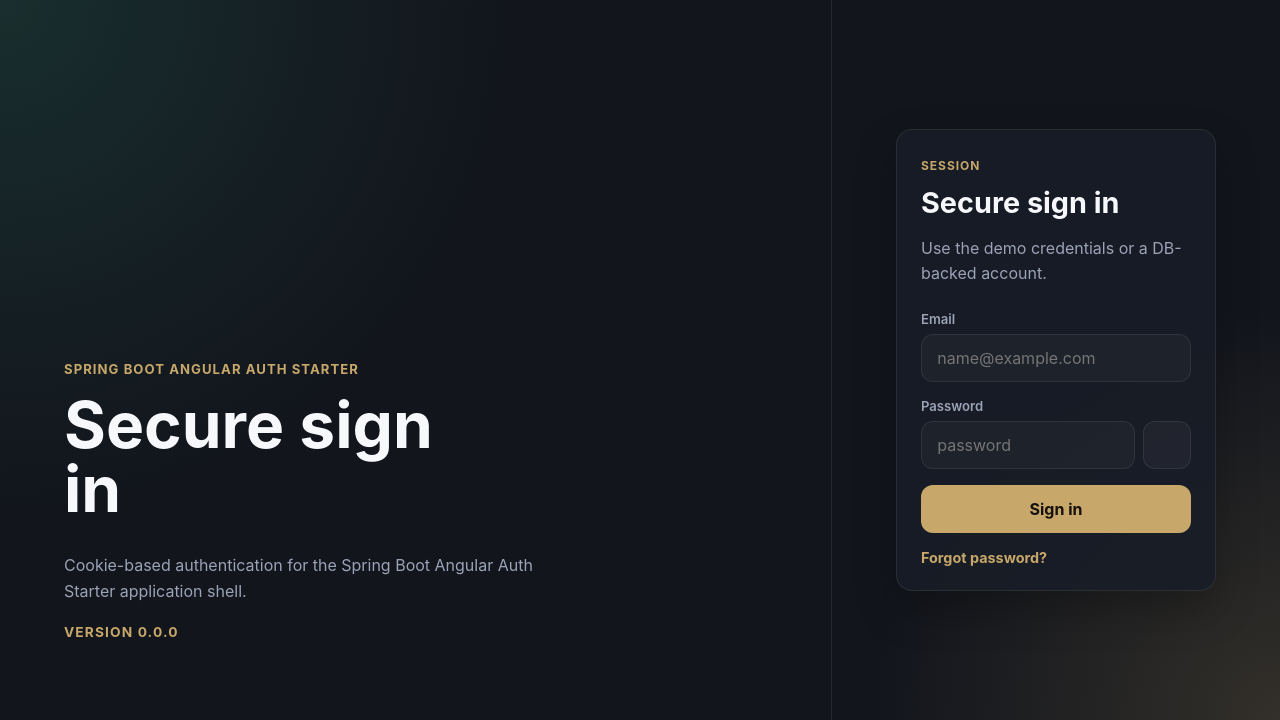
Scenario: LoginShellPageComponent › shows the verification step instead of navigating when a second factor is required
Type "mfa@example.test" into the field named "email" at [1056, 358], box [921, 334, 1191, 382]
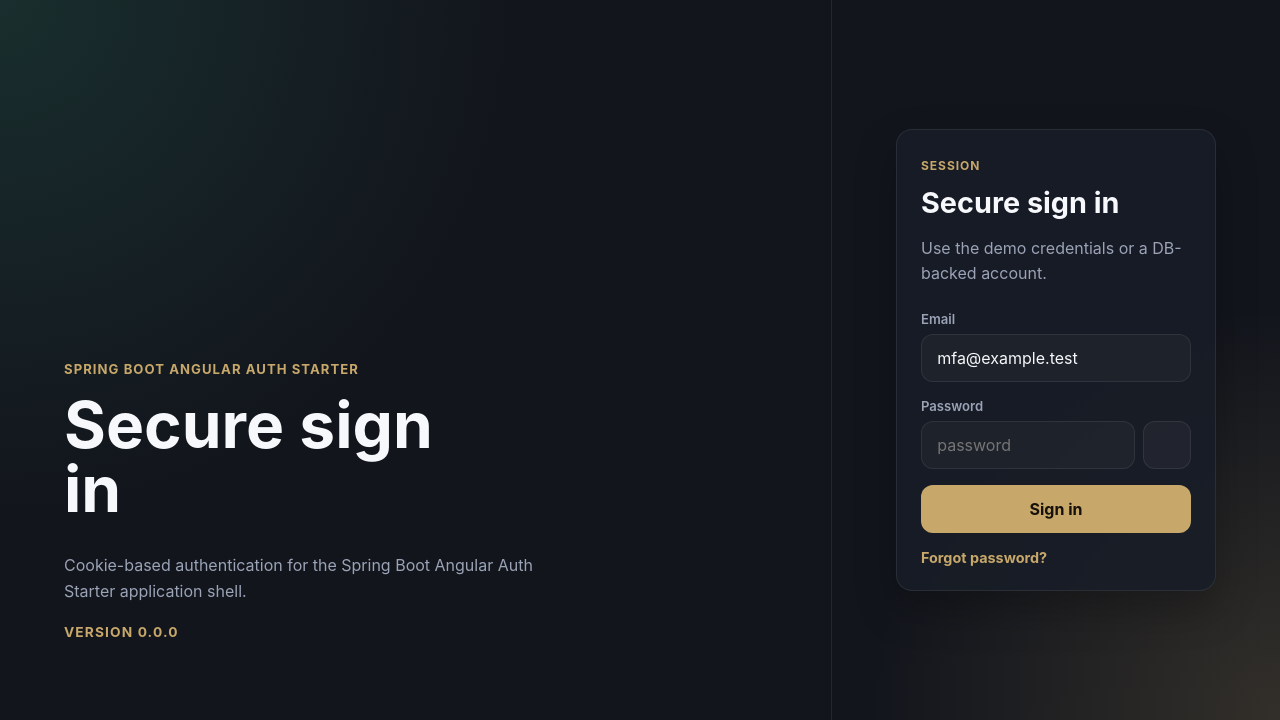
Type "correct-password" into the password field named "password" at [1028, 445], box [921, 421, 1135, 469]
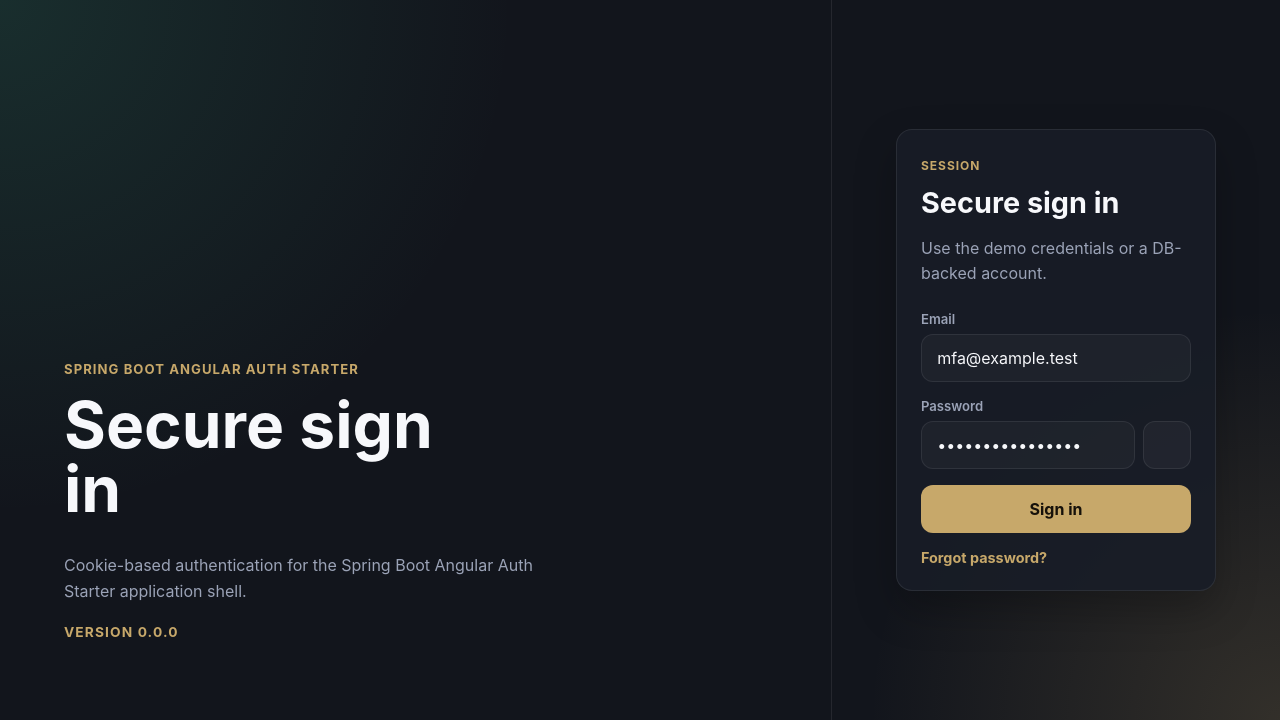
Submit the form, box [921, 311, 1191, 566]
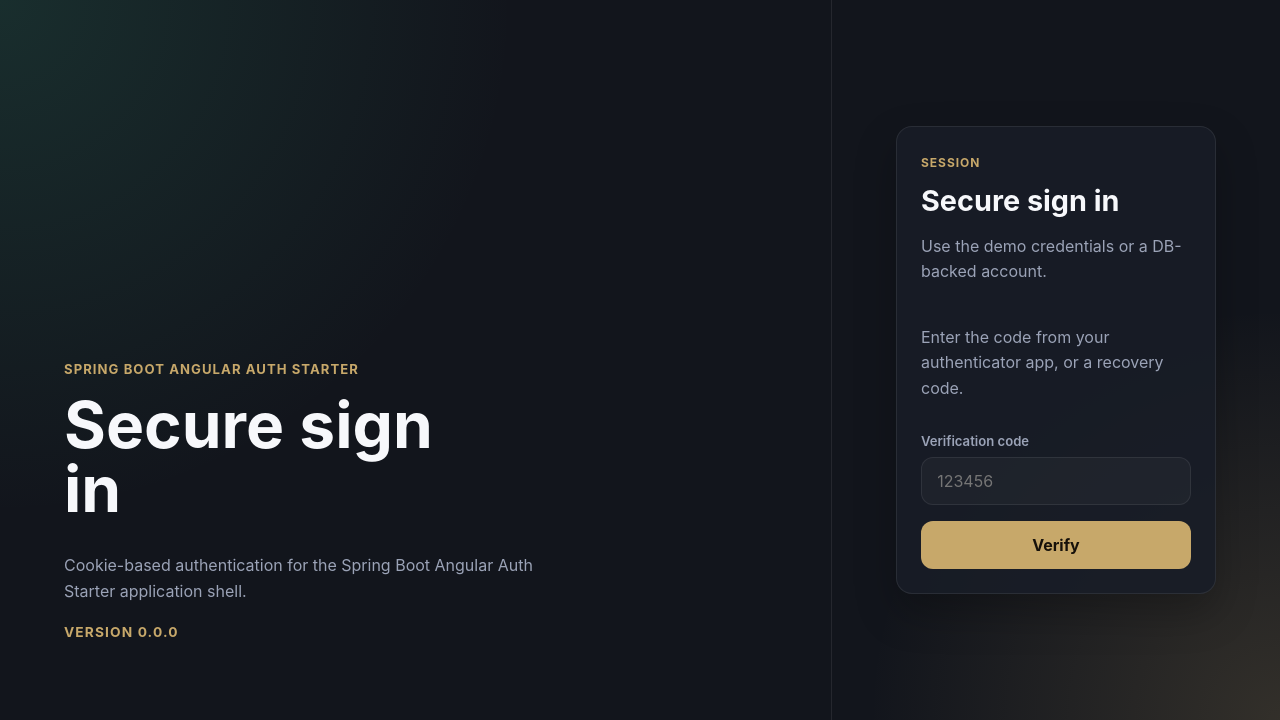
Check: the field named "code" is shown, box [921, 457, 1191, 505]
